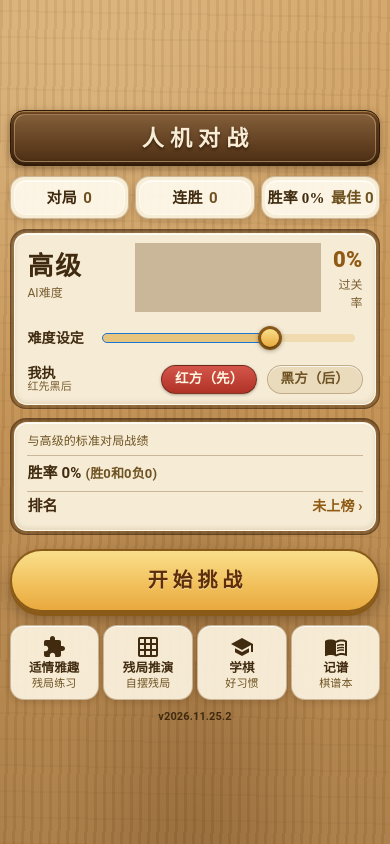
it: 全局主页按钮（v2026.11.23.8） › 残局推演页有主页按钮，点了回主页
Click the button with test id "entry-endgame-lab" at (148, 662), box [104,625,193,700]
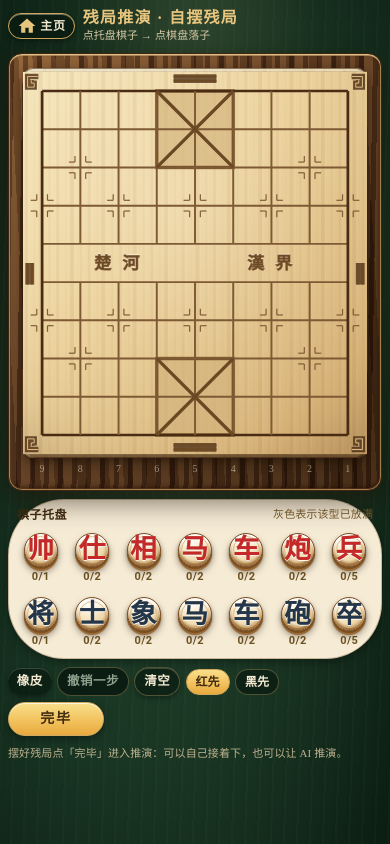
Click the button with test id "lab-home" at (41, 26), box [8,13,75,39]
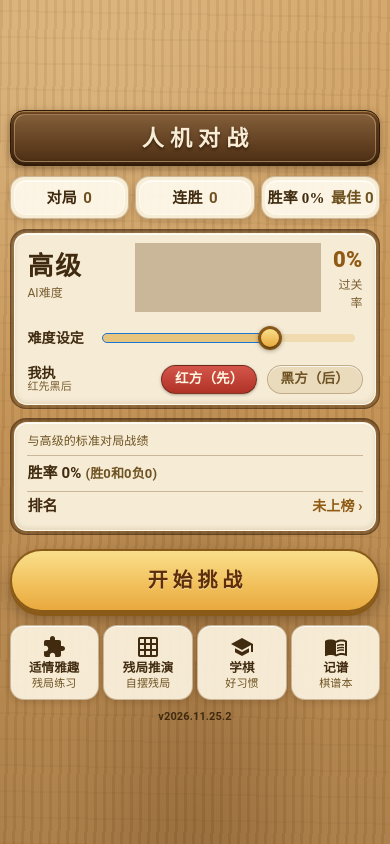
Expected: the button "开始挑战" is shown, [10,549,380,612]
